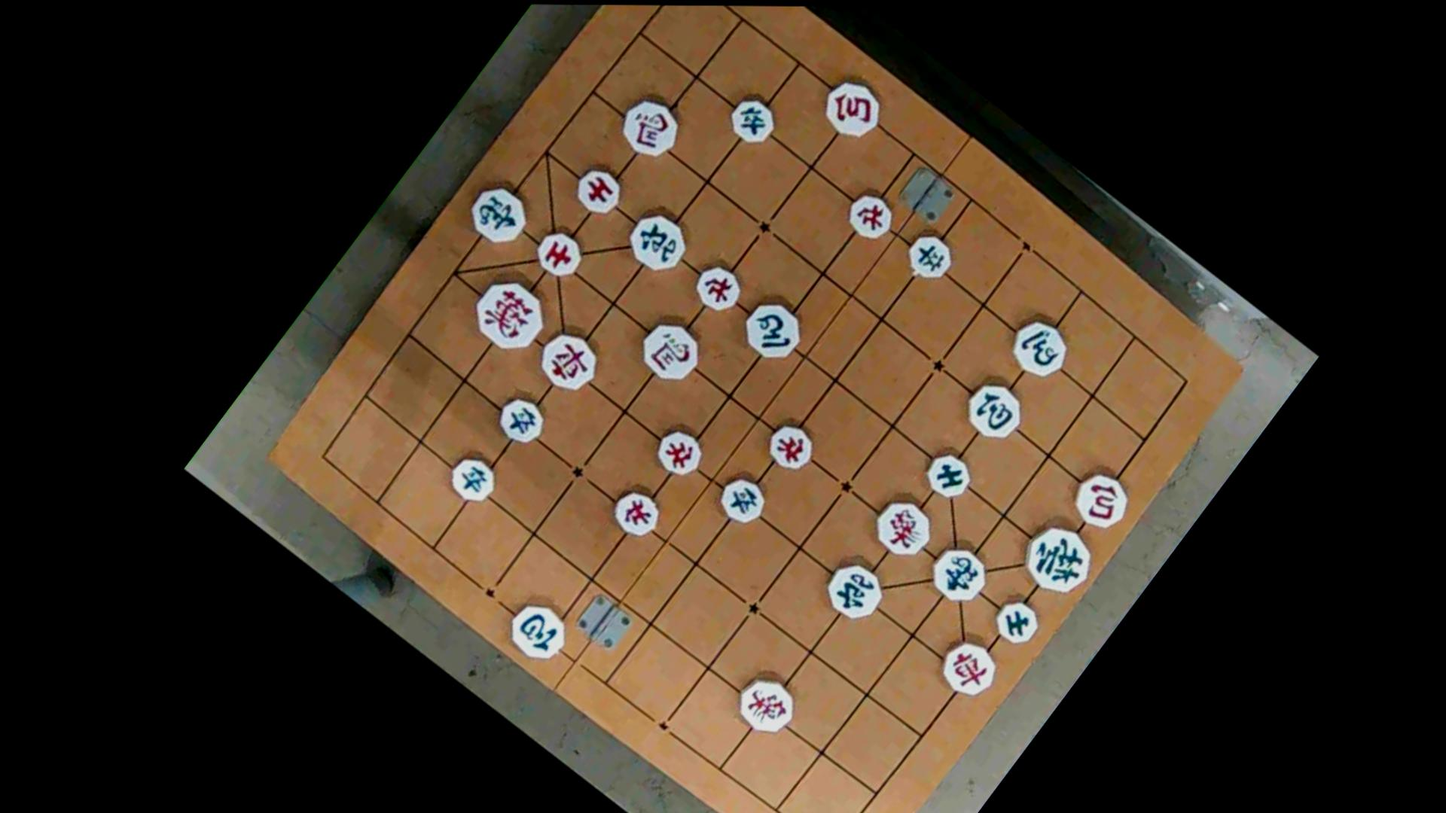cha_green: (813, 552, 892, 627), (618, 206, 696, 280)
cha_red: (526, 323, 607, 400), (929, 629, 1006, 703)
jol_green: (487, 388, 555, 452), (439, 446, 504, 508), (895, 224, 959, 285), (709, 470, 773, 531), (719, 89, 783, 149)
jol_red: (683, 255, 749, 319), (603, 480, 669, 544), (836, 184, 902, 247), (757, 413, 822, 476), (647, 421, 710, 483)
ma_green: (732, 291, 812, 367), (1000, 314, 1077, 386)
ma_red: (609, 90, 688, 166), (629, 313, 707, 388)
po_green: (953, 371, 1033, 448), (497, 591, 578, 667)
po_red: (812, 71, 891, 146), (1062, 463, 1137, 535)
sa_green: (984, 591, 1047, 650), (915, 446, 977, 504)
sa_red: (524, 223, 591, 285), (566, 161, 628, 220)
sang_green: (920, 537, 999, 611), (458, 177, 535, 251)
sang_red: (862, 489, 941, 564), (727, 666, 805, 741)
wang_green: (1008, 512, 1104, 604)
wang_red: (462, 268, 554, 355)
